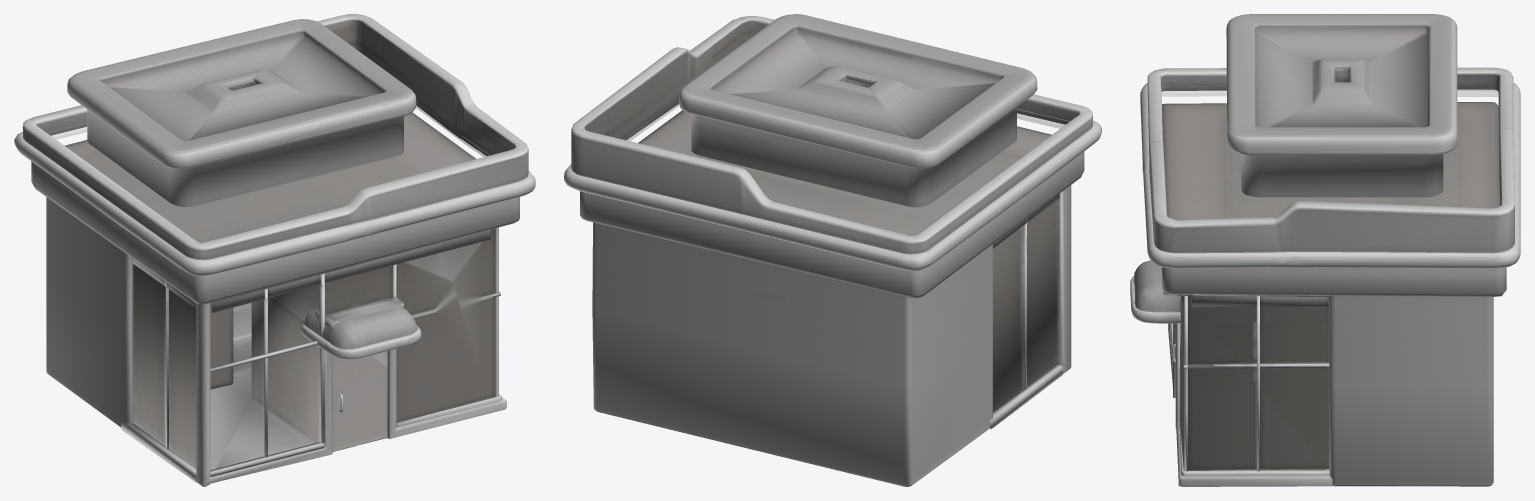
Rendered from bldg_store.glb.
3 views of the same model, side by side, from view 1: azimuth 30°, elevation 25°; view 2: azimuth 150°, elevation 25°; view 3: azimuth 270°, elevation 25° (orthographic). The views are drawn at different scales.
Visible parts, largest first — view 1: tripo_node_cc1b0d31-3156-4ef6-bec2-b1356dcd7d49; view 2: tripo_node_cc1b0d31-3156-4ef6-bec2-b1356dcd7d49; view 3: tripo_node_cc1b0d31-3156-4ef6-bec2-b1356dcd7d49.
Part boxes in pixels (x1,y1,x2,y2): tripo_node_cc1b0d31-3156-4ef6-bec2-b1356dcd7d49: (14,14,535,486); tripo_node_cc1b0d31-3156-4ef6-bec2-b1356dcd7d49: (564,14,1101,486); tripo_node_cc1b0d31-3156-4ef6-bec2-b1356dcd7d49: (1130,14,1520,486).
Size of the model in its own units: 0.998 by 0.8418 by 0.9277.
Materials: 1 (1 with a texture image).
